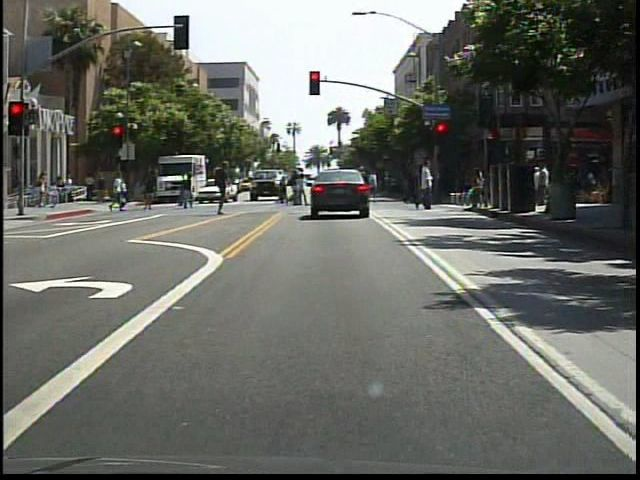person: (412, 158, 441, 212), (209, 162, 236, 219), (330, 167, 351, 215), (110, 171, 129, 217), (180, 171, 200, 212)
